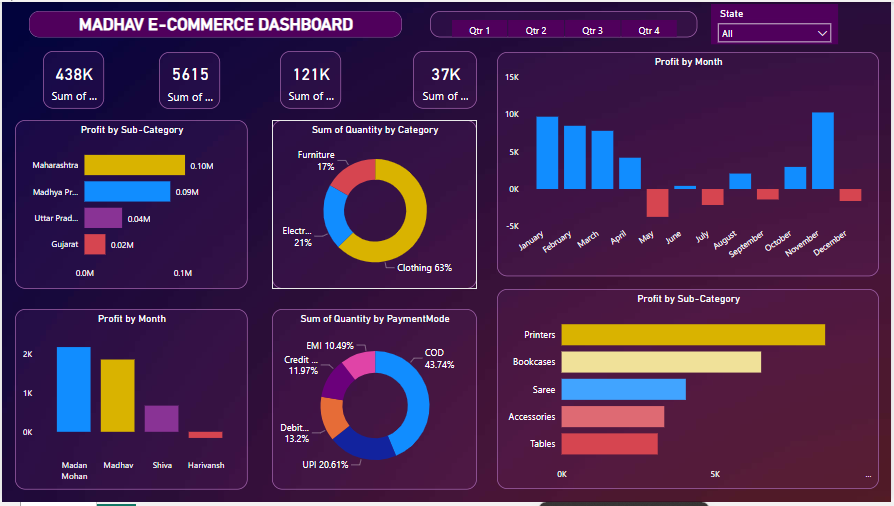

This screenshot's page, from the dashboard's own definition file:
{"tool":"powerbi","page":{"name":"Page 1","canvas":[1280,720],"ordinal":0},"visuals":[{"type":"clusteredColumnChart","title":"Profit by Month","fields":{"Category":["Orders.Order Date.Variation.Date Hierarchy.Month"],"Y":["Details.Profit"]},"box":[713.3,71.7,550,323.3],"z":0},{"type":"barChart","title":"Profit by Sub-Category","fields":{"Category":["Details.Sub-Category"],"Y":["Details.Profit"]},"box":[713.3,413.3,550,288.3],"z":1000},{"type":"donutChart","fields":{"Category":["Details.Category"],"Y":["Details.Quantity"]},"box":[388.3,170,295,243.3],"z":2000},{"type":"donutChart","fields":{"Y":["Details.Quantity"],"Category":["Details.PaymentMode"]},"box":[388.3,441.7,295,260],"z":3000},{"type":"card","fields":{"Values":["Details.Quantity"]},"box":[226.7,71.7,88.3,81.7],"z":4000},{"type":"card","fields":{"Values":["Details.Profit"]},"box":[591.7,70,91.7,83.3],"z":5000},{"type":"card","fields":{"Values":["Details.Amount"]},"box":[58.3,70,88.3,83.3],"z":6000},{"type":"card","fields":{"Values":["Details.AOV"]},"box":[400,70,88.3,83.3],"z":7000},{"type":"barChart","title":"Profit by Sub-Category","fields":{"Category":["Orders.State"],"Y":["Details.Amount"]},"box":[18.3,170,335,243.3],"z":8000},{"type":"clusteredColumnChart","title":"Profit by Month","fields":{"Y":["Details.Profit"],"Category":["Orders.CustomerName"]},"box":[18.3,441.7,335,260],"z":9000},{"type":"slicer","fields":{"Values":["Orders.Order Date.Variation.Date Hierarchy.Quarter"]},"box":[616.7,13.3,385,38.3],"z":10000},{"type":"textbox","title":"MADHAV E-COMMERCE DASHBOARD","box":[38.3,13.3,536.7,38.3],"z":11000},{"type":"slicer","fields":{"Values":["Orders.State"]},"box":[1021.7,3.3,183.3,58.3],"z":11001}]}

Visuals, with their boxes in screenshot pixels (x1, y1, x2, y2), scaled from the page's 1280x720 canvas onto the 894x506 screenshot:
"Profit by Month" clusteredColumnChart: [left=498, top=50, right=882, bottom=278]
"Profit by Sub-Category" barChart: [left=498, top=290, right=882, bottom=493]
donutChart - Details.Category x Details.Quantity: [left=271, top=119, right=477, bottom=290]
donutChart - Details.Quantity x Details.PaymentMode: [left=271, top=310, right=477, bottom=493]
card - Details.Quantity: [left=158, top=50, right=220, bottom=108]
card - Details.Profit: [left=413, top=49, right=477, bottom=108]
card - Details.Amount: [left=41, top=49, right=102, bottom=108]
card - Details.AOV: [left=279, top=49, right=341, bottom=108]
"Profit by Sub-Category" barChart: [left=13, top=119, right=247, bottom=290]
"Profit by Month" clusteredColumnChart: [left=13, top=310, right=247, bottom=493]
slicer - Orders.Order Date.Variation.Date Hierarchy.Quarter: [left=431, top=9, right=700, bottom=36]
"MADHAV E-COMMERCE DASHBOARD" textbox: [left=27, top=9, right=402, bottom=36]
slicer - Orders.State: [left=714, top=2, right=842, bottom=43]
